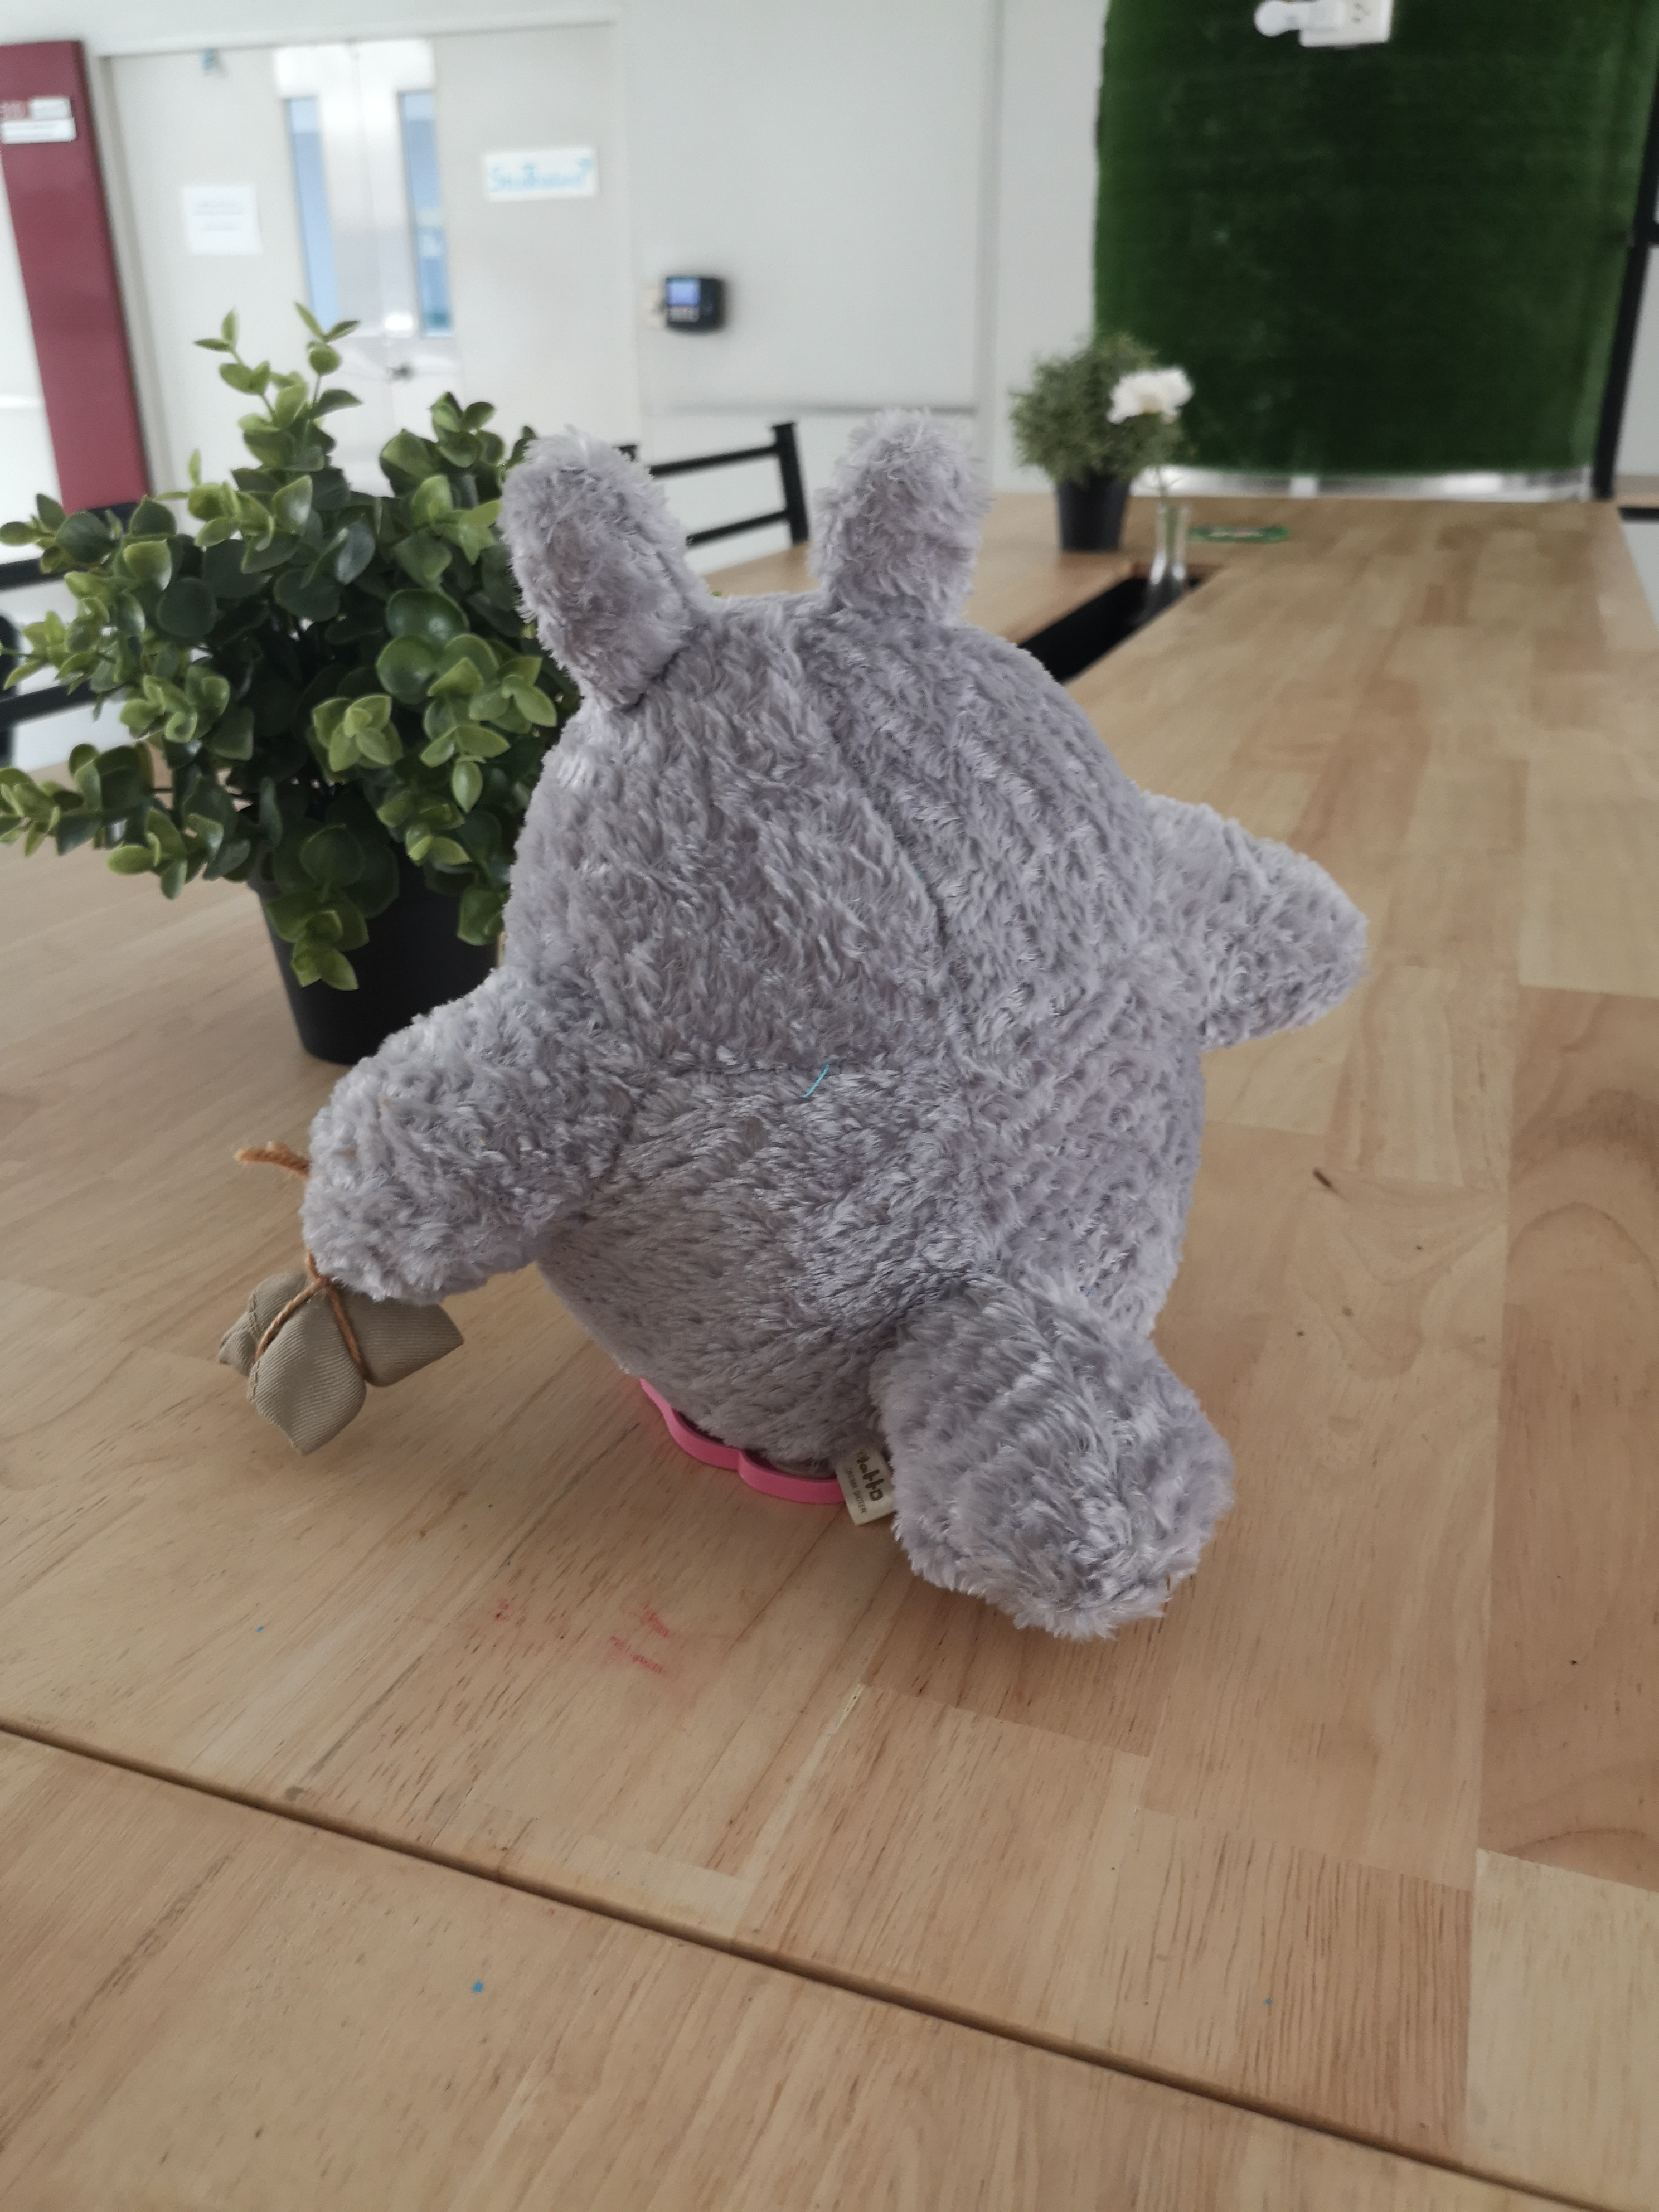totoro: (207, 390, 1384, 1649)
